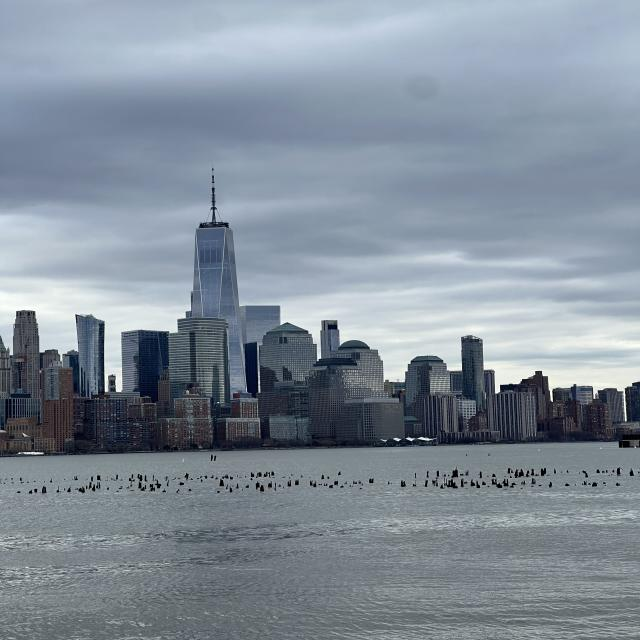WTC: (190, 164, 240, 318)
